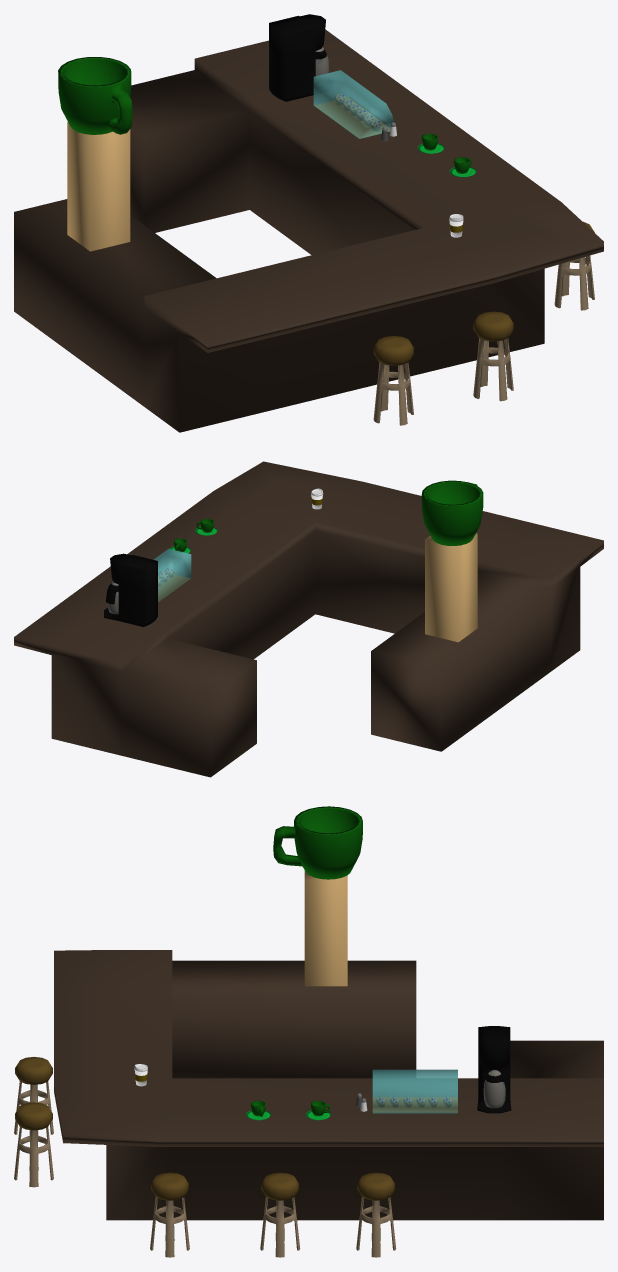
File: coffeeKiosk.fbx
3 views of the same model, one above another, from view 1: azimuth 30°, elevation 25°; view 2: azimuth 150°, elevation 25°; view 3: azimuth 270°, elevation 25° (orthographic). The views are drawn at different scales.
Parts seen in each view (by area): view 1: pCube1, coffeeSignStand, coffeMug2, coffeeMaker, pastryDisplayGlass3, barStool3, barStool4, barStool, pastryDisplayShelf; view 2: pCube1, coffeeSignStand, coffeMug2, coffeeMaker, pastryDisplayGlass3; view 3: pCube1, coffeMug2, coffeeSignStand, pastryDisplayGlass3, coffeeMaker, barStool, barStool3, barStool1, barStool2, barStool4, pastryDisplayShelf, coffeePot.
Boxes of the visible parts, x1,y1,x2,y2 form: pCube1: [14, 29, 603, 432]; coffeeSignStand: [67, 122, 130, 251]; coffeMug2: [58, 57, 132, 134]; coffeeMaker: [269, 14, 325, 101]; pastryDisplayGlass3: [313, 70, 393, 138]; barStool3: [473, 311, 513, 401]; barStool4: [373, 336, 413, 425]; barStool: [554, 221, 594, 310]; pastryDisplayShelf: [315, 97, 390, 138]; pCube1: [14, 461, 603, 777]; coffeeSignStand: [425, 533, 477, 642]; coffeMug2: [421, 480, 483, 545]; coffeeMaker: [104, 553, 157, 626]; pastryDisplayGlass3: [153, 548, 191, 602]; pCube1: [54, 950, 603, 1220]; coffeMug2: [273, 806, 362, 879]; coffeeSignStand: [304, 870, 347, 986]; pastryDisplayGlass3: [372, 1069, 457, 1113]; coffeeMaker: [477, 1026, 511, 1113]; barStool: [150, 1172, 189, 1257]; barStool3: [14, 1102, 53, 1187]; barStool1: [260, 1172, 300, 1257]; barStool2: [356, 1172, 396, 1257]; barStool4: [14, 1057, 53, 1135]; pastryDisplayShelf: [373, 1097, 457, 1112]; coffeePot: [482, 1070, 509, 1108].
Bounding box in the file's own units: 1507 × 853 × 1837.
